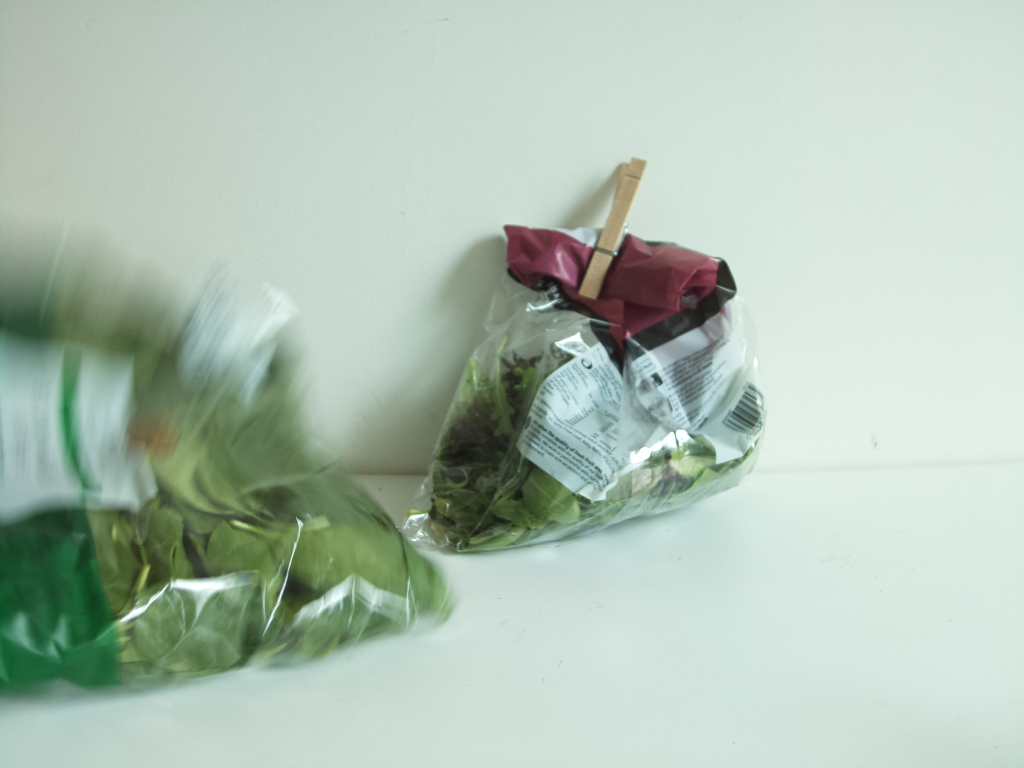salad: (1, 247, 456, 703), (424, 226, 773, 552)
